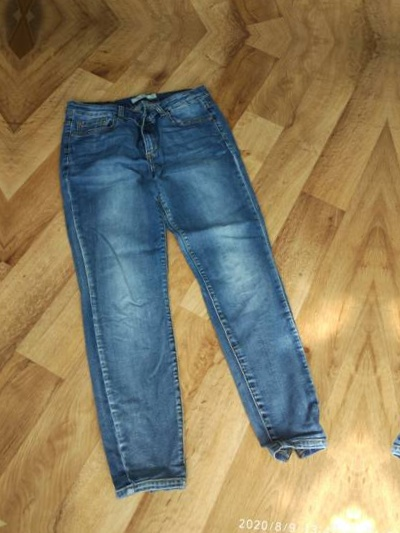Pants: (15, 52, 359, 496), (387, 84, 400, 527), (56, 0, 400, 10)
